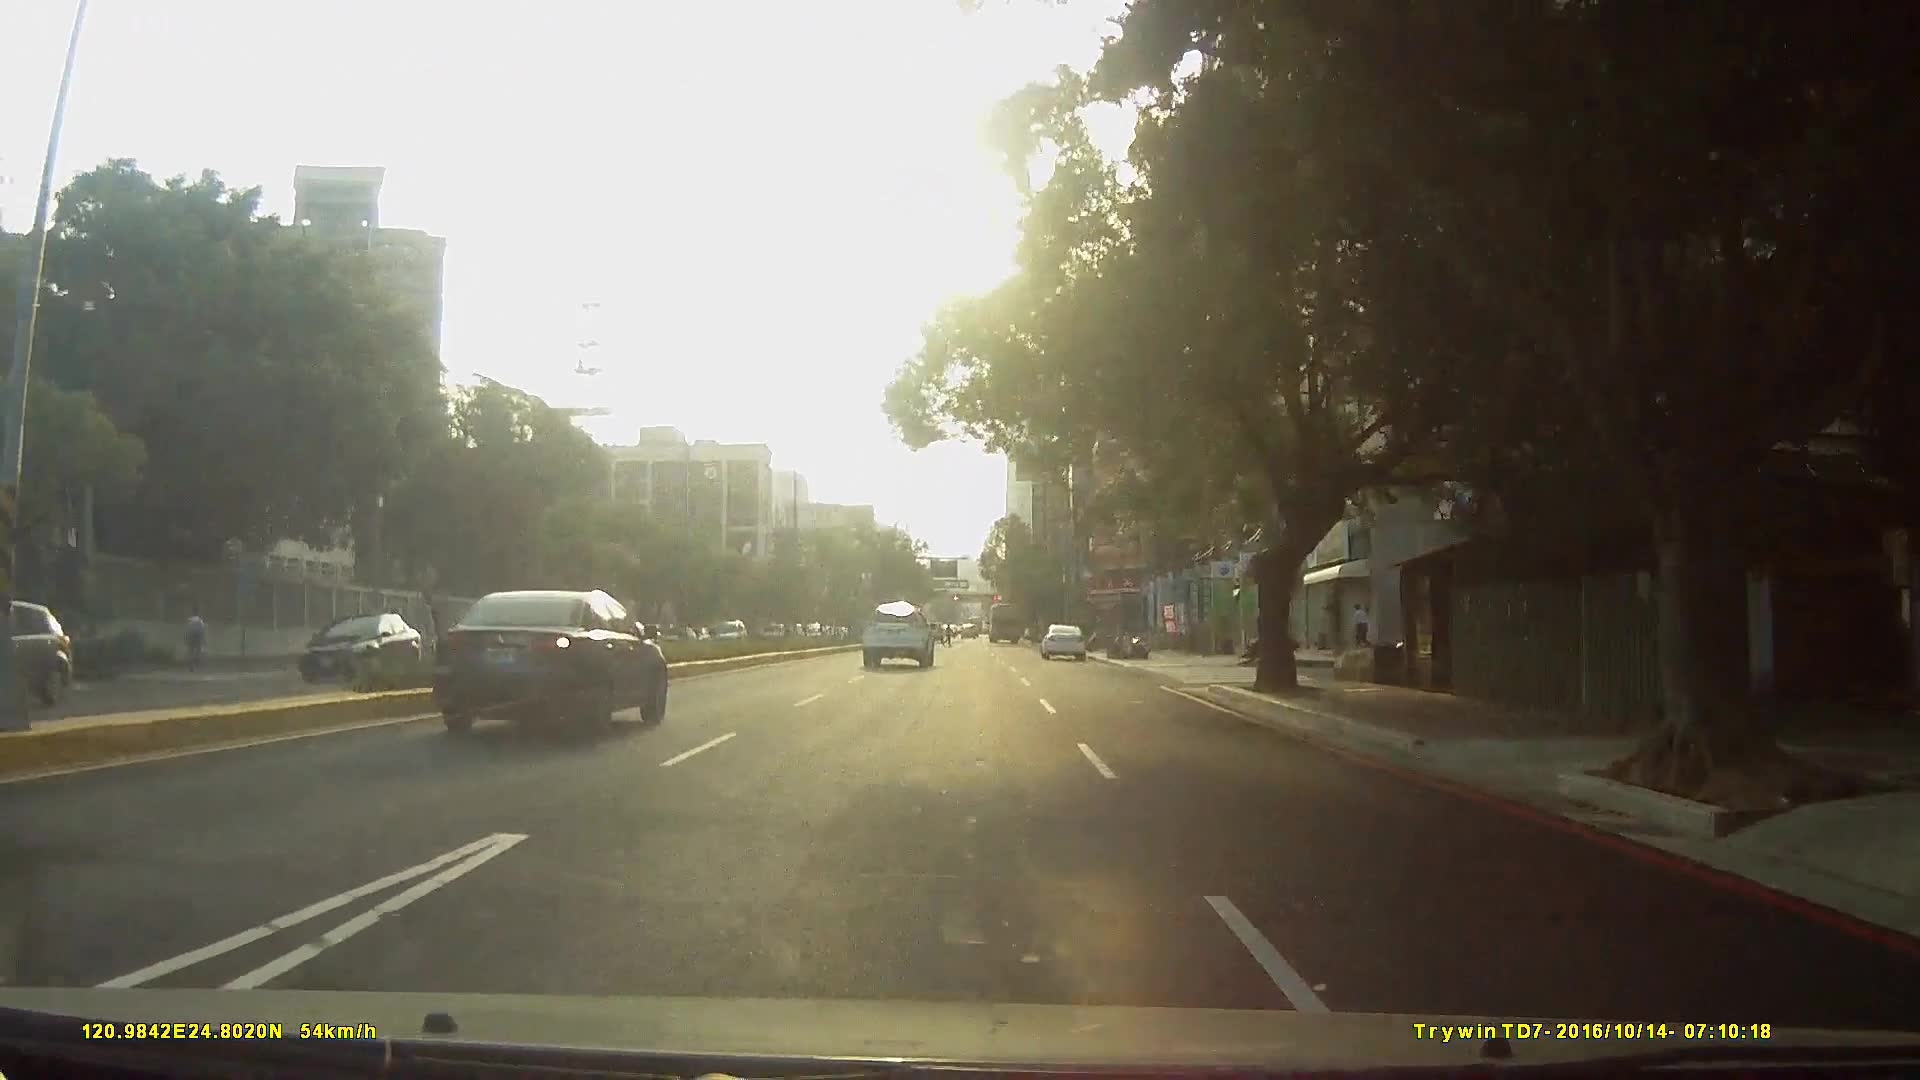pedestrian: (179, 609, 208, 668), (1350, 604, 1371, 651)
vehicle: (433, 584, 670, 740), (288, 611, 433, 686), (1, 598, 89, 716), (860, 597, 937, 667), (1038, 619, 1087, 660), (985, 596, 1025, 641)
